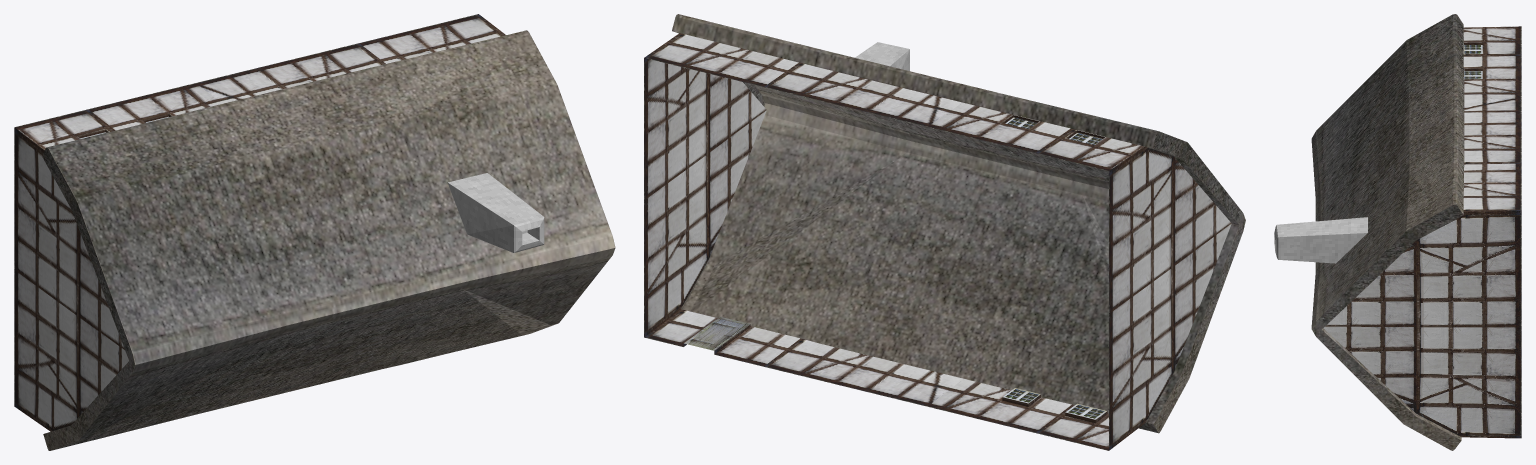
The model's file is fwHouse33_wtf.obj.
The picture shows the model from 3 angles, left to right: view 1: azimuth 30°, elevation 25°; view 2: azimuth 150°, elevation 25°; view 3: azimuth 270°, elevation 25°; orthographic projection. The views are drawn at different scales.
Parts seen in each view (by area): view 1: group8, group5, group4, group13, group15, group14, group3, group16, group7, group6, group12; view 2: group8, group4, group5, group15, group3, group16, group7, group6, group12, group14, group9, group13 (+1 smaller); view 3: group8, group5, group4, group14, group7, group6, group15, group13, group3, group16, group12.
Part boxes in pixels (box(x1,y1,x2,y2)): group8: box(47, 30, 615, 450); group5: box(14, 114, 171, 316); group4: box(14, 270, 79, 431); group13: box(448, 173, 544, 252); group15: box(196, 43, 385, 103); group14: box(42, 147, 135, 450); group3: box(359, 14, 505, 63); group16: box(88, 83, 222, 130); group7: box(79, 317, 128, 415); group6: box(79, 231, 124, 349); group12: box(15, 109, 115, 150); group8: box(672, 14, 1239, 433); group4: box(644, 153, 1173, 450); group5: box(644, 58, 1173, 423); group15: box(764, 62, 963, 406); group3: box(644, 33, 799, 366); group16: box(928, 102, 1071, 432); group7: box(709, 110, 1231, 372); group6: box(709, 74, 1231, 266); group12: box(1035, 128, 1144, 450); group14: box(681, 82, 1245, 432); group9: box(684, 316, 750, 350); group13: box(855, 42, 909, 70); group8: box(1311, 14, 1464, 440); group5: box(1416, 42, 1521, 327); group4: box(1416, 327, 1521, 438); group14: box(1311, 205, 1462, 450); group7: box(1323, 326, 1416, 413); group6: box(1325, 241, 1416, 326); group15: box(1464, 98, 1521, 164); group13: box(1274, 217, 1367, 263); group3: box(1463, 163, 1521, 211); group16: box(1463, 55, 1521, 99); group12: box(1463, 26, 1521, 56).
Size of the model in its own units: 660 by 397 by 361.
